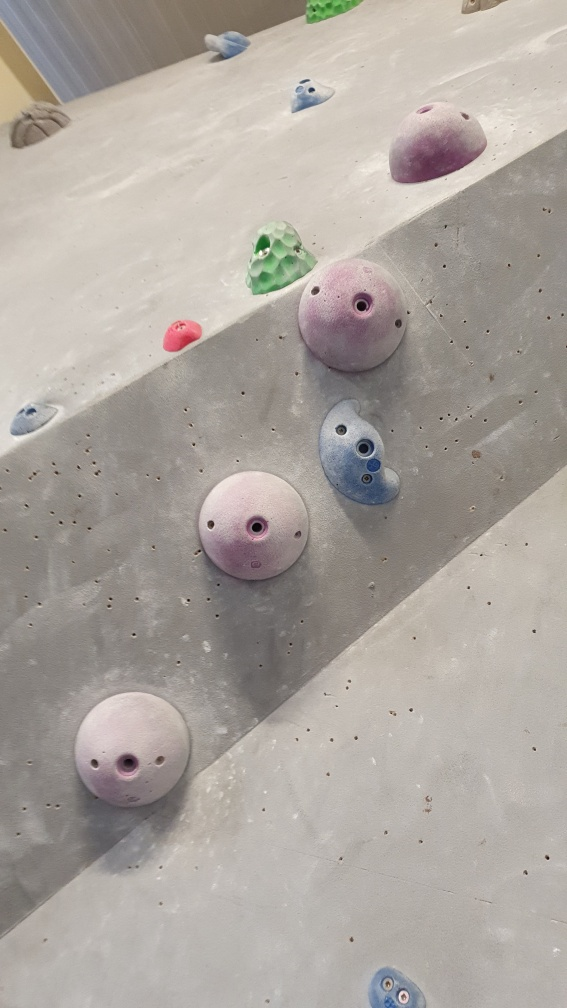Jug: (321, 396, 407, 507), (242, 218, 321, 296), (203, 25, 251, 60)
Sloper: (75, 691, 195, 809), (298, 254, 408, 372), (201, 471, 311, 580), (385, 99, 486, 185)
